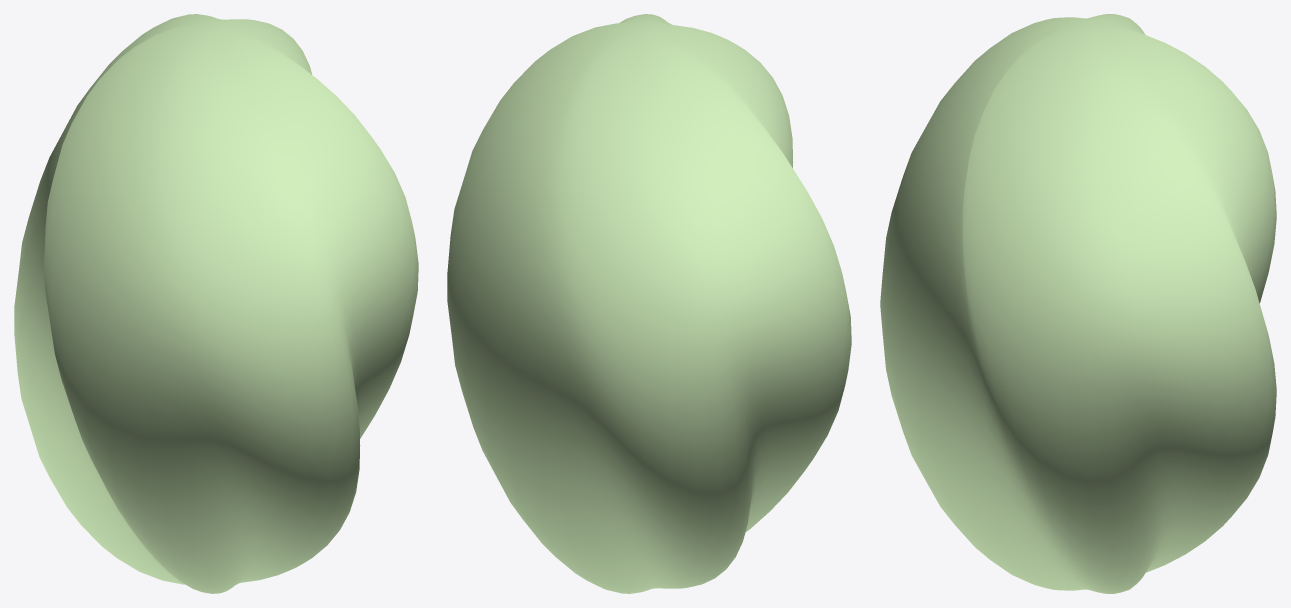
The model's file is seedpod.glb.
The picture shows the model from 3 angles, left to right: view 1: azimuth 30°, elevation 25°; view 2: azimuth 150°, elevation 25°; view 3: azimuth 270°, elevation 25°; orthographic projection.
Size of the model in its own units: 1.43 by 2.16 by 1.4.
